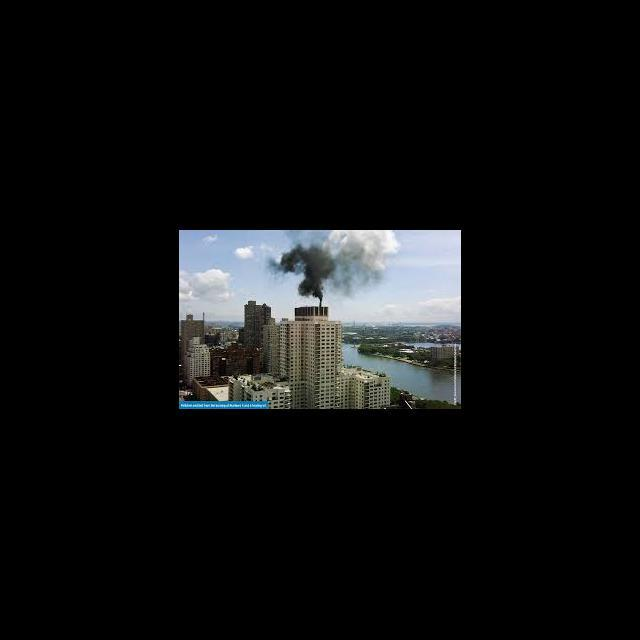Smoke: (276, 231, 398, 297)
